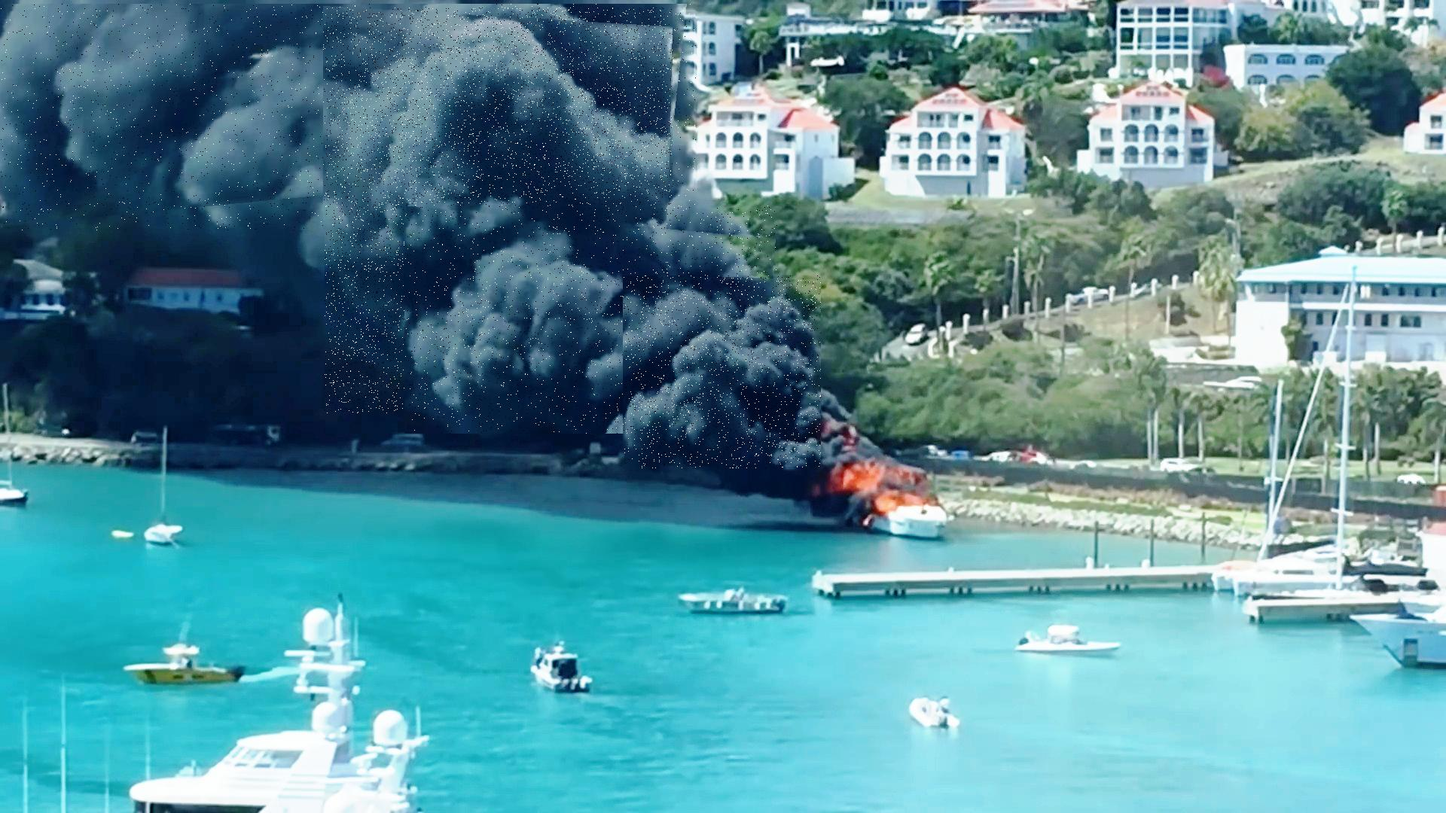smoke: (1, 4, 696, 231), (325, 8, 673, 414), (405, 206, 778, 434), (625, 276, 821, 469)
